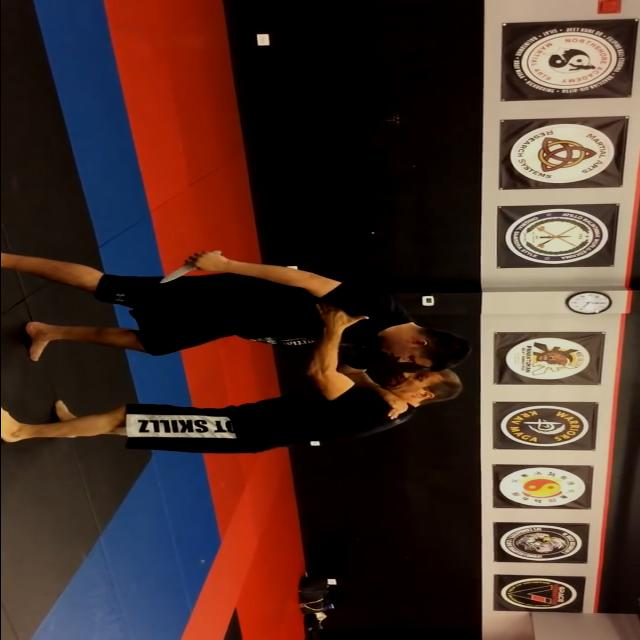knife: (153, 248, 227, 288)
